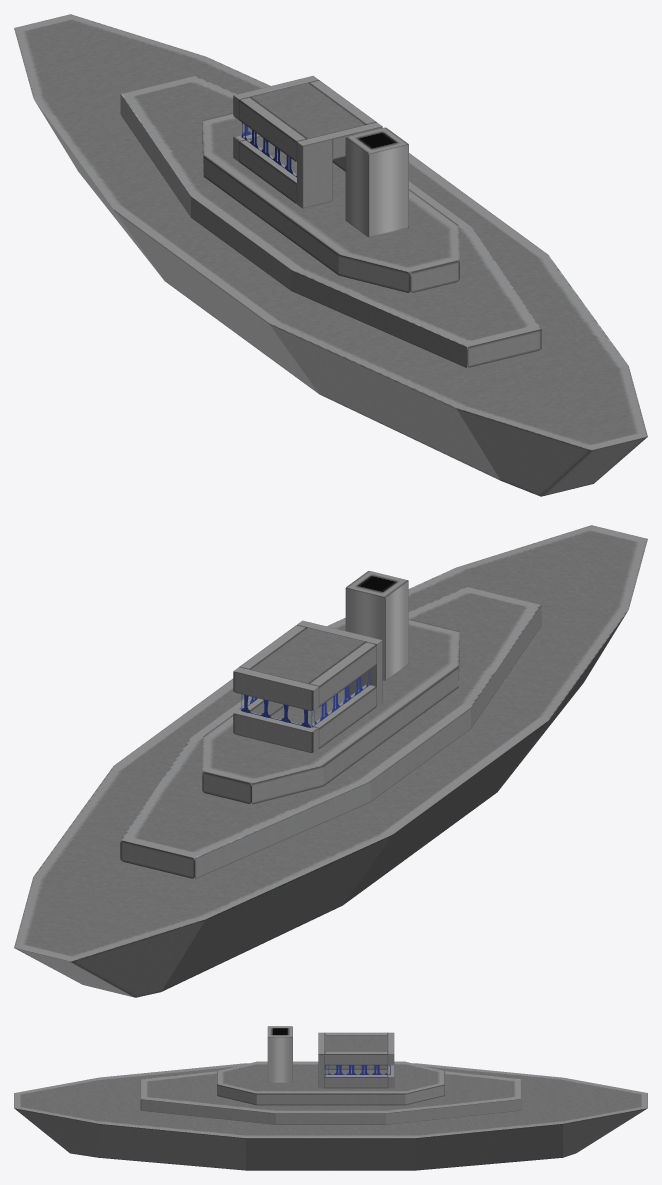
The model's file is battleship.obj.
3 renders of one model, top to bottom at view 1: azimuth 30°, elevation 25°; view 2: azimuth 150°, elevation 25°; view 3: azimuth 270°, elevation 25°, orthographic. The views are drawn at different scales.
Visible parts, largest first — view 1: cylinder3, cylinder2, cylinder1, cube1, cube10, cube2, cube14, cube13; view 2: cylinder3, cylinder2, cylinder1, cube1, cube10, cube6, cube5, cube14, cube13, cube2; view 3: cylinder3, cylinder2, cylinder1, cube1, cube10, cube12, cube11, cube8, cube3, cube14, cube13, cube6.
Boxes of the visible parts, x1,y1,x2,y2 form: cylinder3: [14, 14, 647, 496]; cylinder2: [120, 75, 541, 367]; cylinder1: [202, 113, 459, 292]; cube1: [345, 127, 408, 237]; cube10: [250, 82, 365, 139]; cube2: [297, 134, 332, 208]; cube14: [239, 97, 306, 161]; cube13: [239, 139, 296, 203]; cylinder3: [14, 525, 647, 997]; cylinder2: [120, 586, 541, 878]; cylinder1: [202, 619, 459, 804]; cube1: [345, 571, 408, 680]; cube10: [250, 627, 365, 684]; cube6: [233, 667, 318, 711]; cube5: [233, 709, 318, 753]; cube14: [310, 642, 376, 707]; cube13: [310, 684, 376, 748]; cube2: [346, 632, 382, 706]; cylinder3: [14, 1063, 647, 1170]; cylinder2: [140, 1071, 521, 1124]; cylinder1: [217, 1061, 444, 1105]; cube1: [267, 1026, 292, 1082]; cube10: [324, 1035, 387, 1051]; cube12: [324, 1051, 387, 1065]; cube11: [324, 1074, 387, 1088]; cube8: [325, 1065, 390, 1074]; cube3: [318, 1046, 324, 1088]; cube14: [324, 1032, 387, 1035]; cube13: [324, 1065, 387, 1069]; cube6: [388, 1032, 394, 1065].
Bounding box in the file's own units: 14 × 10 × 50.
1 material, 1 textured.
